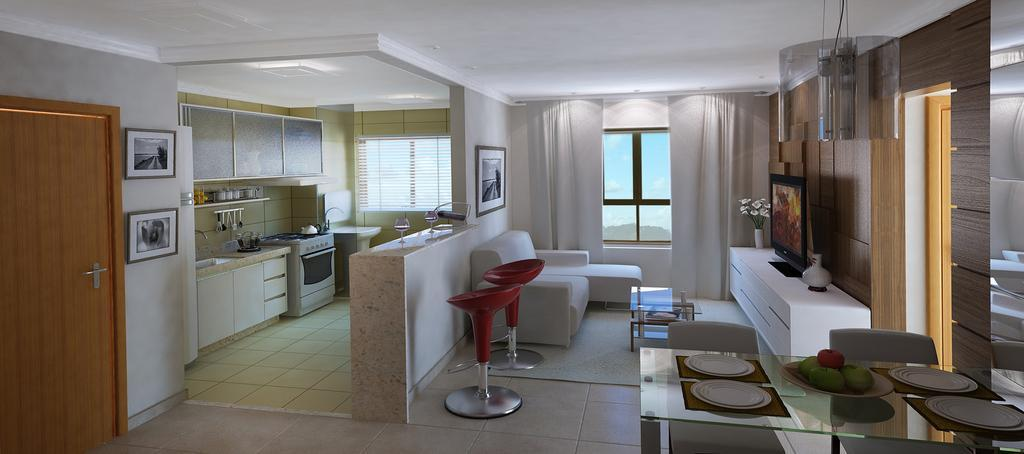door: (0, 116, 102, 451), (925, 92, 953, 452)
handle: (81, 264, 109, 280)
